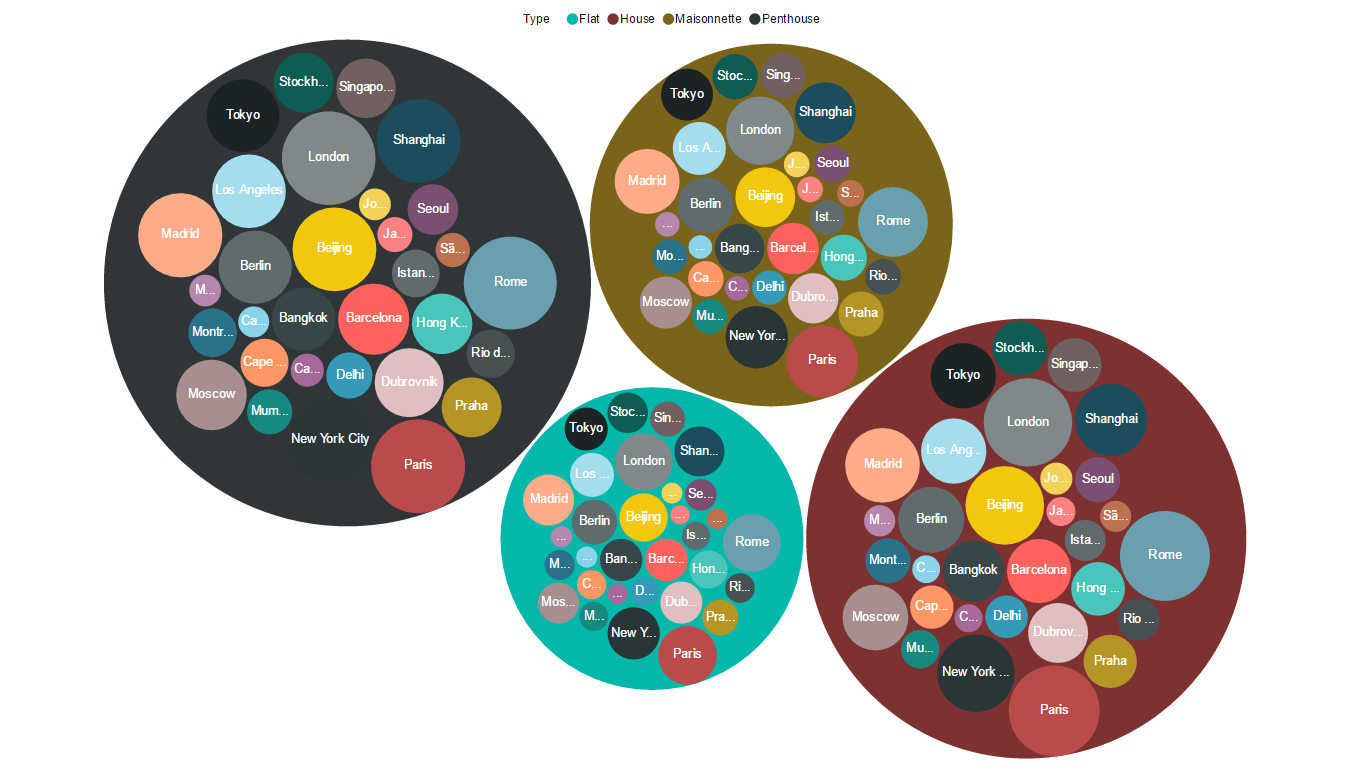

This screenshot's page, from the dashboard's own definition file:
{"tool":"powerbi","page":{"name":"Clustering","canvas":[1280,720],"ordinal":2},"visuals":[{"type":"bubbleChartEEDCDFA388784AEEAB47972BC1626196","fields":{"category":["TimelineTable.City"],"measure":["Sum(TimelineTable.Bonus)"],"grouping":["TimelineTable.Type"]},"box":[3.5,7.8,1268,704.4],"z":1}]}

Visuals, with their boxes in screenshot pixels (x1, y1, x2, y2), scaled from the page's 1280x720 canvas onto the 1366x768 screenshot:
bubbleChartEEDCDFA388784AEEAB47972BC1626196 - TimelineTable.City x Sum(TimelineTable.Bonus): [4, 8, 1357, 760]
